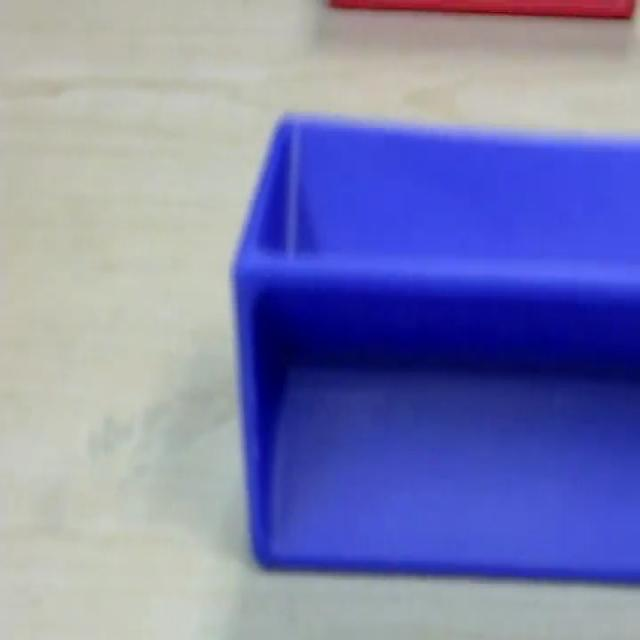blue_block: (230, 108, 638, 581)
